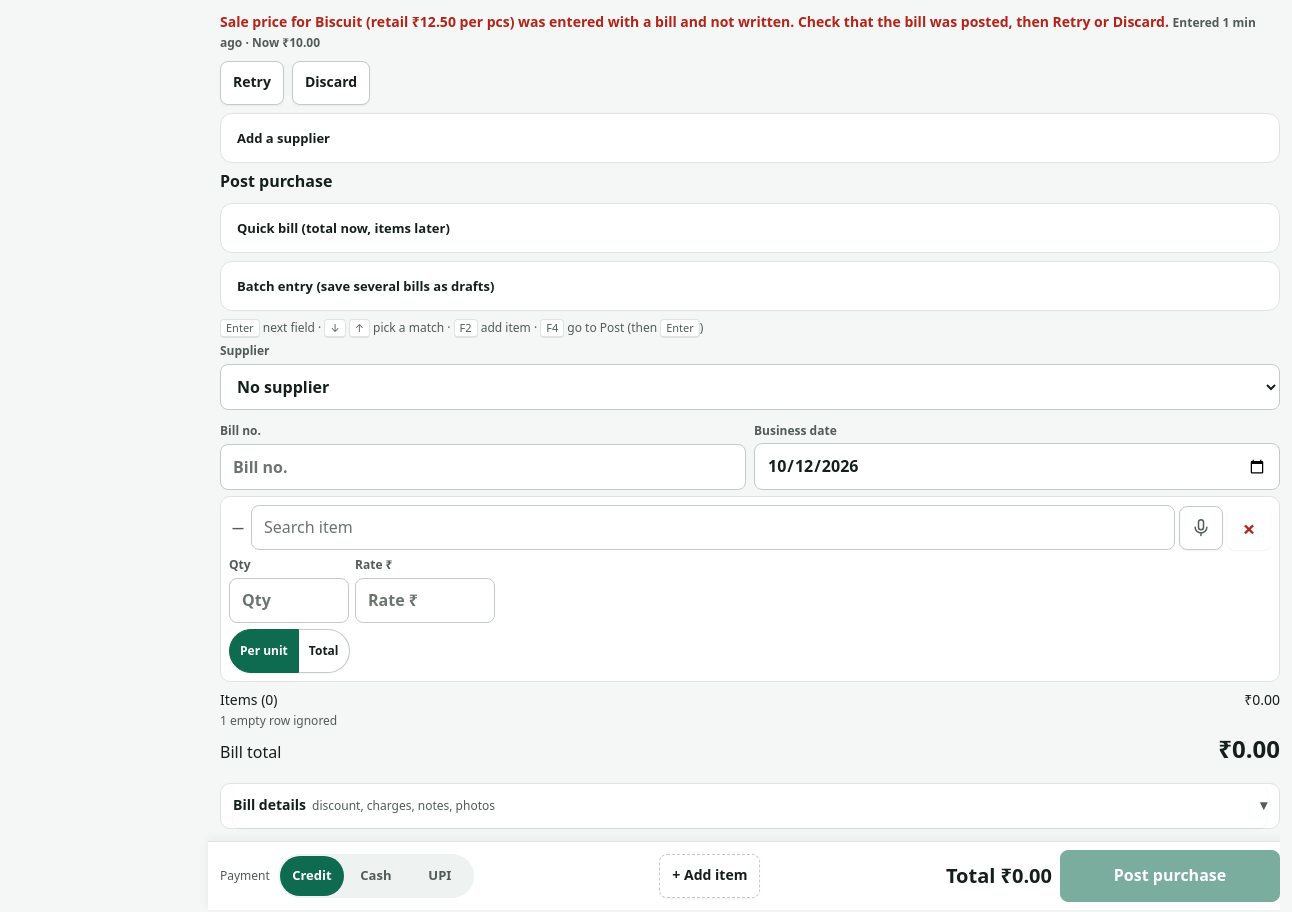
a retry alert can be discarded; it is then gone for good
Expected: the date field named "date" holds "2026-10-12", left=754, top=443, right=1280, bottom=490
Expected: the message is shown, left=220, top=12, right=1280, bottom=105
Step 1. Click the button "Discard" → [331, 83], box left=292, top=61, right=370, bottom=105
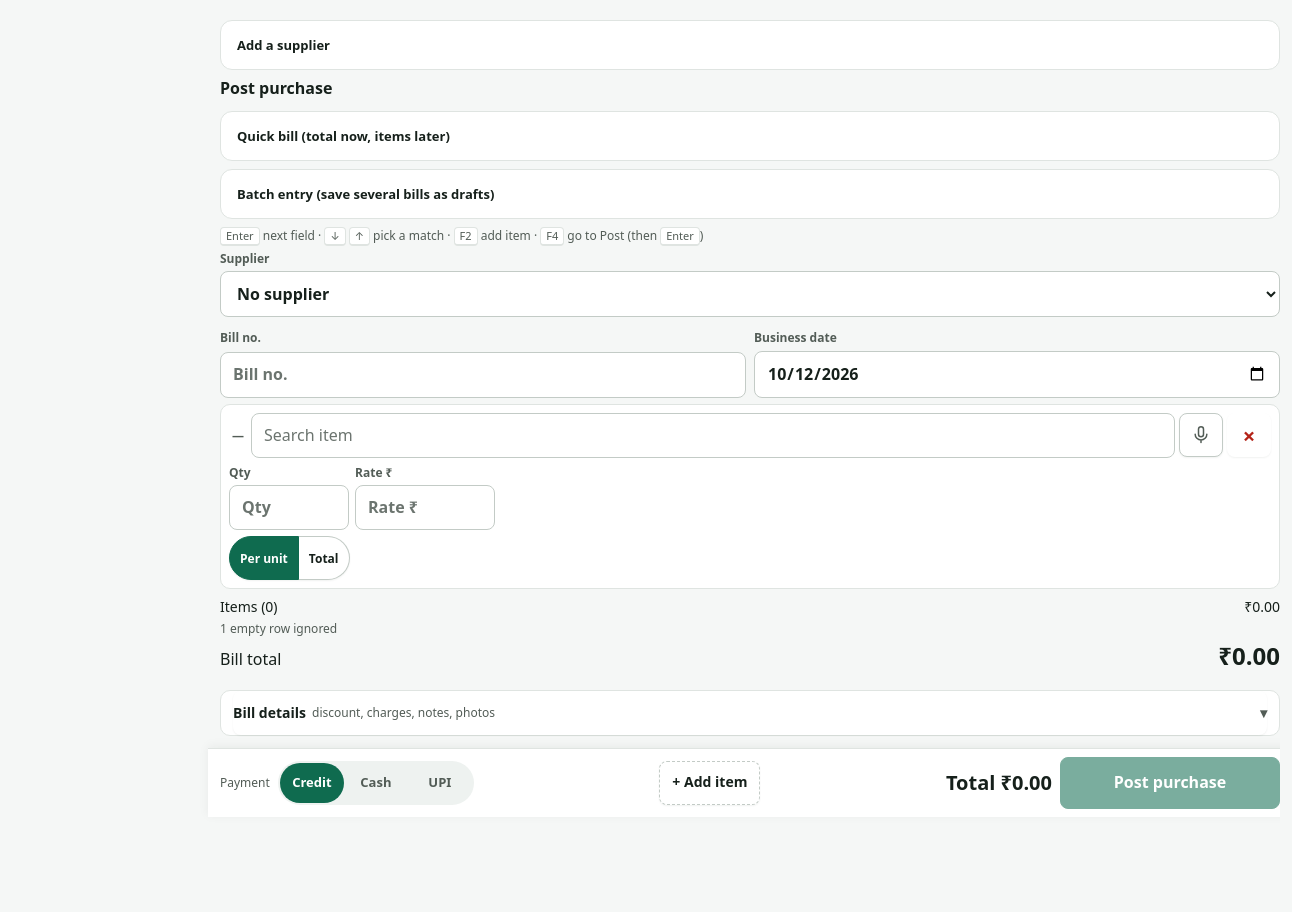
Expected: the message is gone
